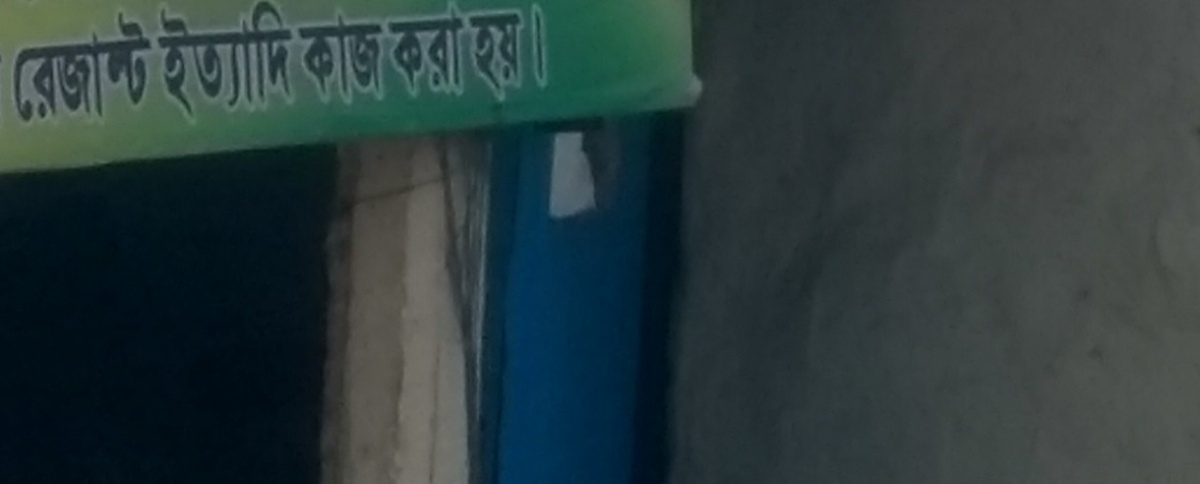text: (161, 2, 176, 131), (177, 2, 192, 131), (193, 2, 208, 131), (209, 2, 224, 131), (225, 2, 240, 131), (241, 2, 256, 131), (257, 2, 272, 131), (273, 2, 288, 131), (17, 6, 32, 130), (33, 6, 48, 130), (49, 6, 64, 130), (65, 6, 80, 130), (81, 6, 96, 130), (97, 6, 112, 130), (113, 6, 128, 130), (129, 6, 144, 130), (385, 2, 401, 114), (289, 2, 304, 114), (305, 2, 320, 114), (321, 2, 336, 114), (337, 2, 352, 114), (353, 2, 368, 114), (369, 2, 384, 114), (465, 7, 480, 109), (481, 7, 496, 109), (497, 7, 512, 109), (513, 7, 528, 109), (385, 1, 400, 101), (401, 1, 416, 101), (417, 1, 432, 101), (433, 1, 448, 101), (449, 1, 464, 101), (530, 1, 544, 92), (289, 2, 298, 131), (7, 6, 16, 130), (145, 6, 154, 130), (152, 2, 160, 131), (379, 1, 384, 101), (545, 1, 550, 92), (465, 1, 469, 101), (461, 7, 464, 109), (529, 7, 532, 109)
